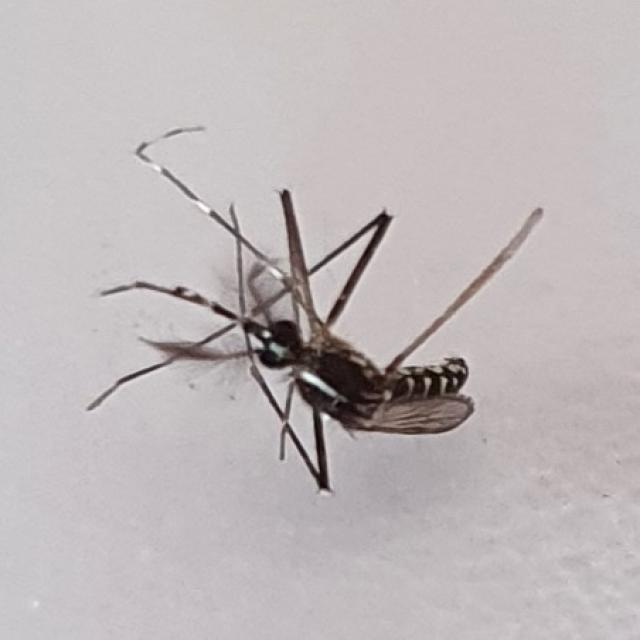albopictus: (75, 123, 479, 510)
